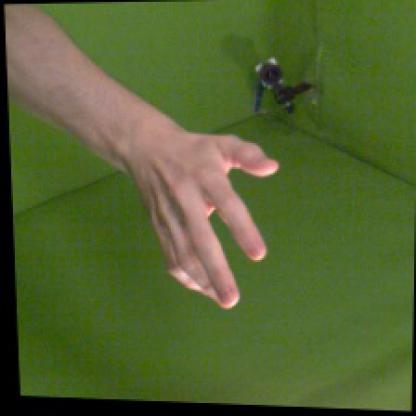Hand: (133, 133, 279, 308)
